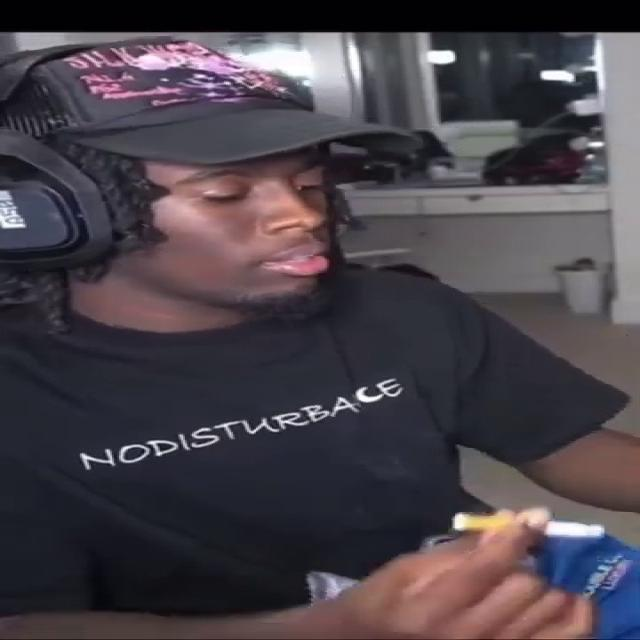Cigarette: (460, 514, 603, 538)
Hand: (312, 508, 602, 639)
Mouth: (248, 234, 334, 283)
